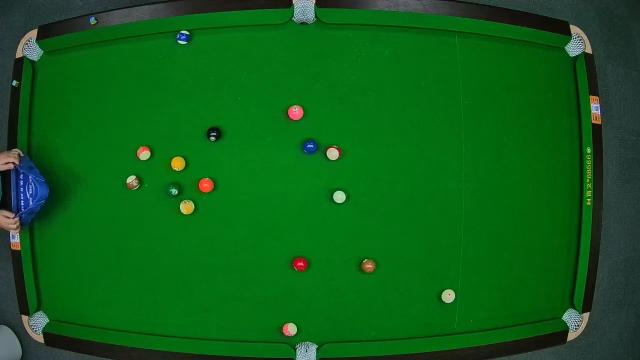bag1: (22, 39, 42, 61)
bag2: (292, 0, 318, 24)
bag3: (564, 33, 588, 55)
bag4: (27, 310, 48, 334)
bag5: (293, 340, 319, 360)
bag6: (562, 308, 582, 330)
ball0: (440, 288, 456, 304)
ball1: (170, 156, 184, 172)
ball10: (176, 30, 192, 46)
ball11: (326, 144, 342, 162)
ball12: (282, 321, 298, 337)
ball13: (136, 146, 150, 160)
ball14: (332, 190, 348, 206)
ball15: (125, 174, 141, 190)
ball2: (303, 140, 319, 154)
ball3: (292, 256, 310, 272)
ball4: (288, 105, 304, 120)
ball5: (198, 177, 214, 193)
ball6: (166, 182, 182, 198)
ball7: (361, 258, 377, 274)
ball8: (206, 128, 222, 142)
ball9: (180, 198, 194, 216)
